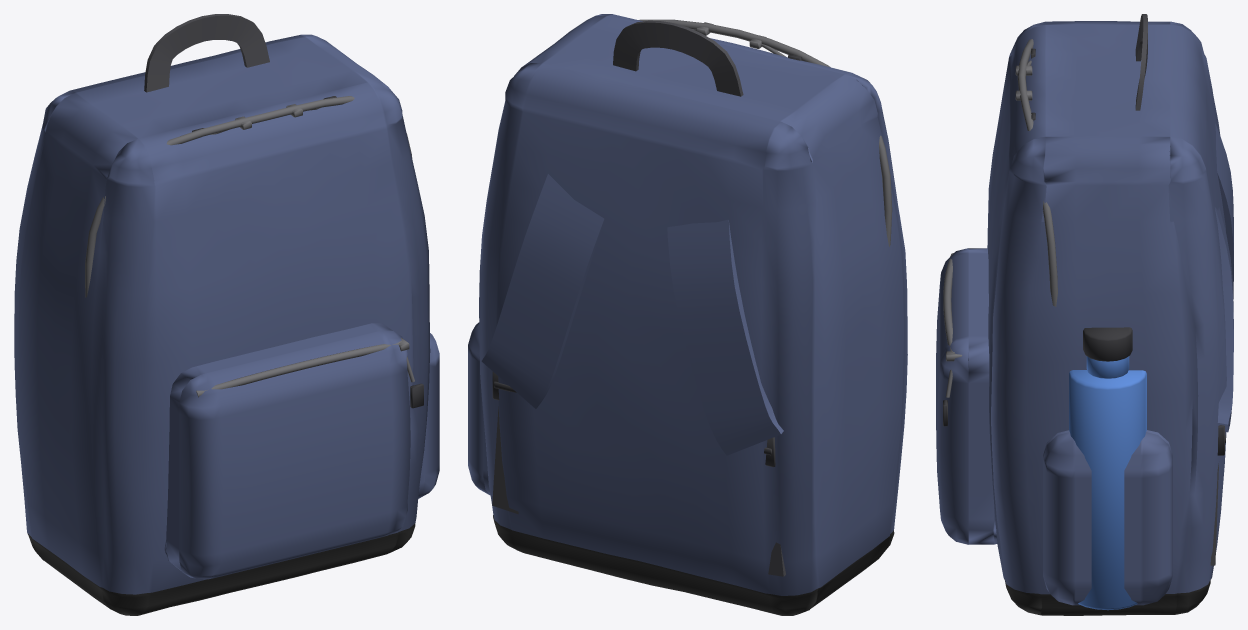
File: textiles_backpack_closed.fbx
The picture shows the model from 3 angles, left to right: view 1: azimuth 30°, elevation 25°; view 2: azimuth 150°, elevation 25°; view 3: azimuth 270°, elevation 25°; orthographic projection. The views are drawn at different scales.
Visible parts, largest first — view 1: textiles_backpack_closed; view 2: textiles_backpack_closed; view 3: textiles_backpack_closed.
Boxes of the visible parts, box(x1,y1,x2,y2) form: textiles_backpack_closed: box(14, 14, 439, 615); textiles_backpack_closed: box(468, 14, 907, 615); textiles_backpack_closed: box(936, 14, 1233, 615).
Bounding box in the file's own units: 0.358 × 0.4939 × 0.2521.
